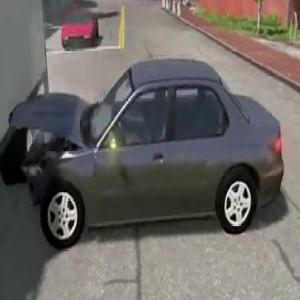significant: (0, 0, 291, 300)
